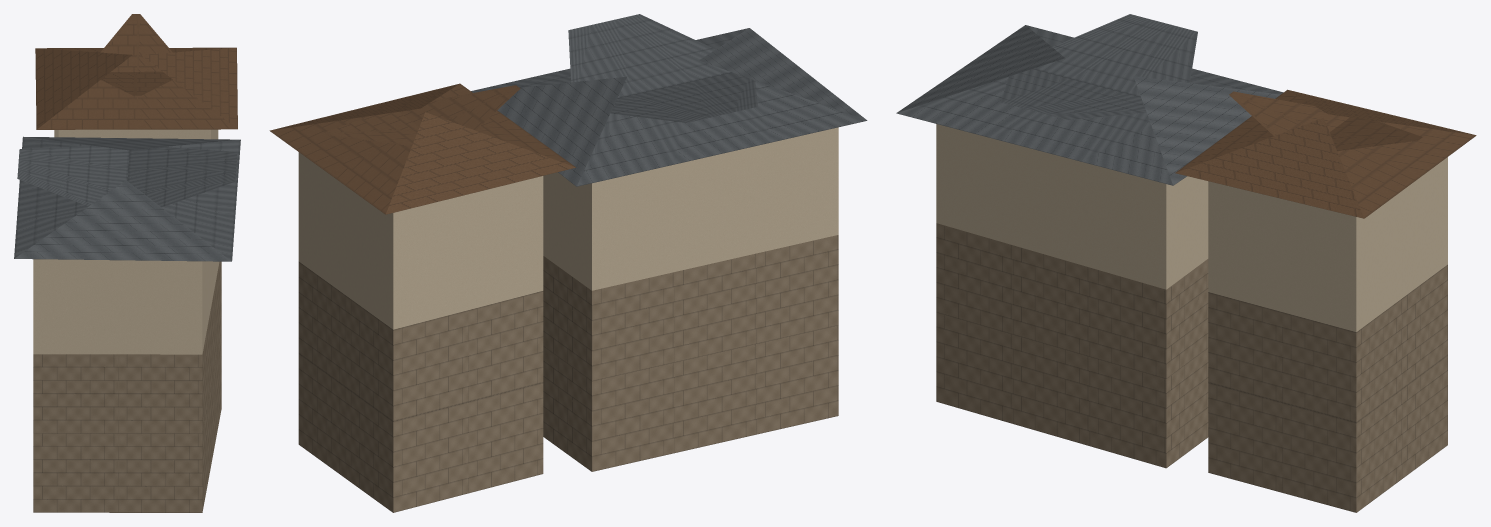
Rendered from bld_c-3_-22_739.gltf.
3 renders of one model, left to right at view 1: azimuth 30°, elevation 25°; view 2: azimuth 150°, elevation 25°; view 3: azimuth 270°, elevation 25°, orthographic. The views are drawn at different scales.
Parts seen in each view (by area): view 1: bld_c-3_-22_739; view 2: bld_c-3_-22_739; view 3: bld_c-3_-22_739.
Boxes of the visible parts, x1=… form: bld_c-3_-22_739: x1=14, y1=14, x2=240, y2=512; bld_c-3_-22_739: x1=269, y1=14, x2=867, y2=512; bld_c-3_-22_739: x1=896, y1=14, x2=1476, y2=512.
Size of the model in its own units: 11.5 by 9 by 13.75.
4 materials, 4 textured.
